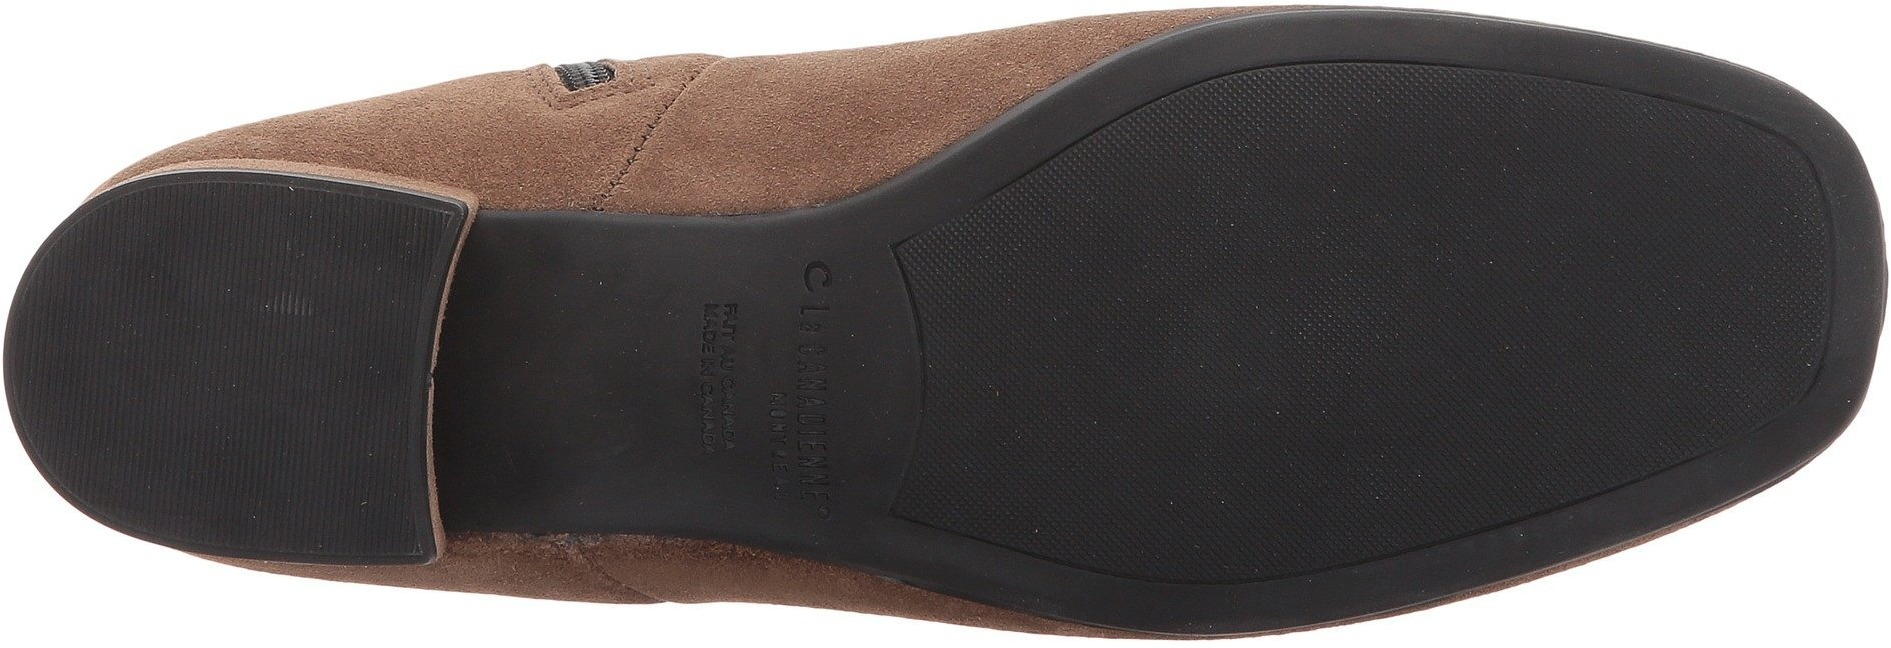other: (1247, 57, 1581, 364), (112, 208, 409, 527), (938, 228, 1245, 510), (1591, 144, 1813, 378), (1255, 368, 1444, 548), (1450, 384, 1592, 492)
